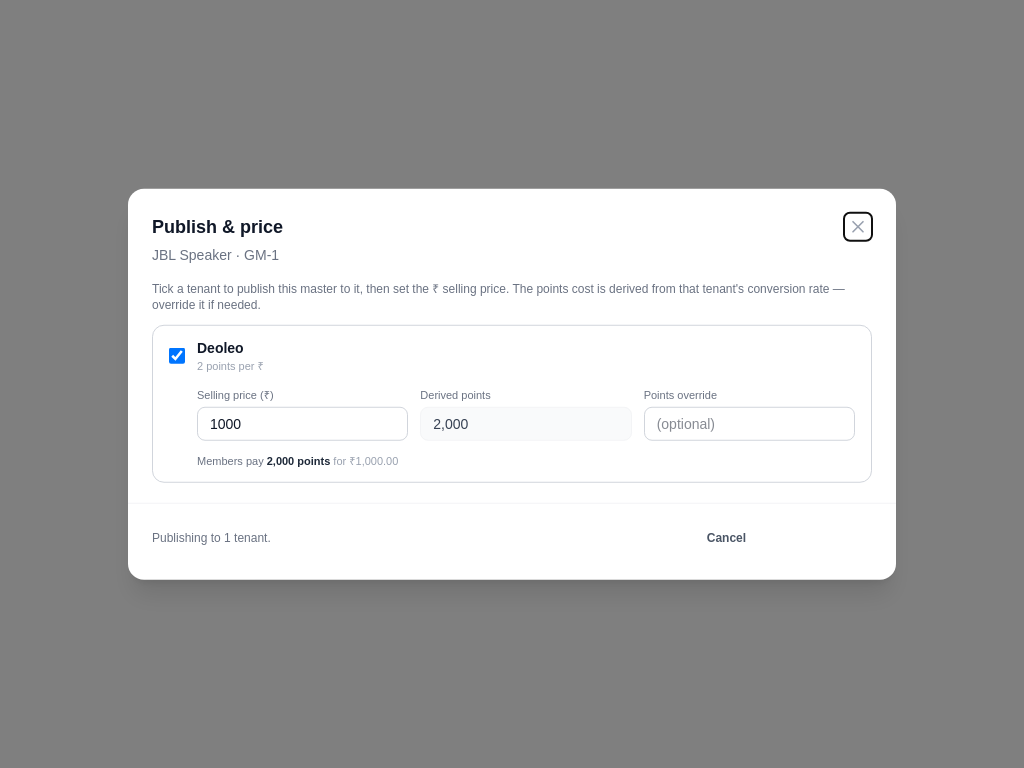
it: PublishDialog › derives points from ₹ × conversion rate and updates as the price changes
Expected: the text with test id "publish-derived-cl1" reads "2,000", [433,416,468,432]
Note: Change price to ₹1500 → derived 3000
Replace the text in the field with test id "publish-price-cl1" with "1500". click: (303, 424)
box: [197,407,408,441]
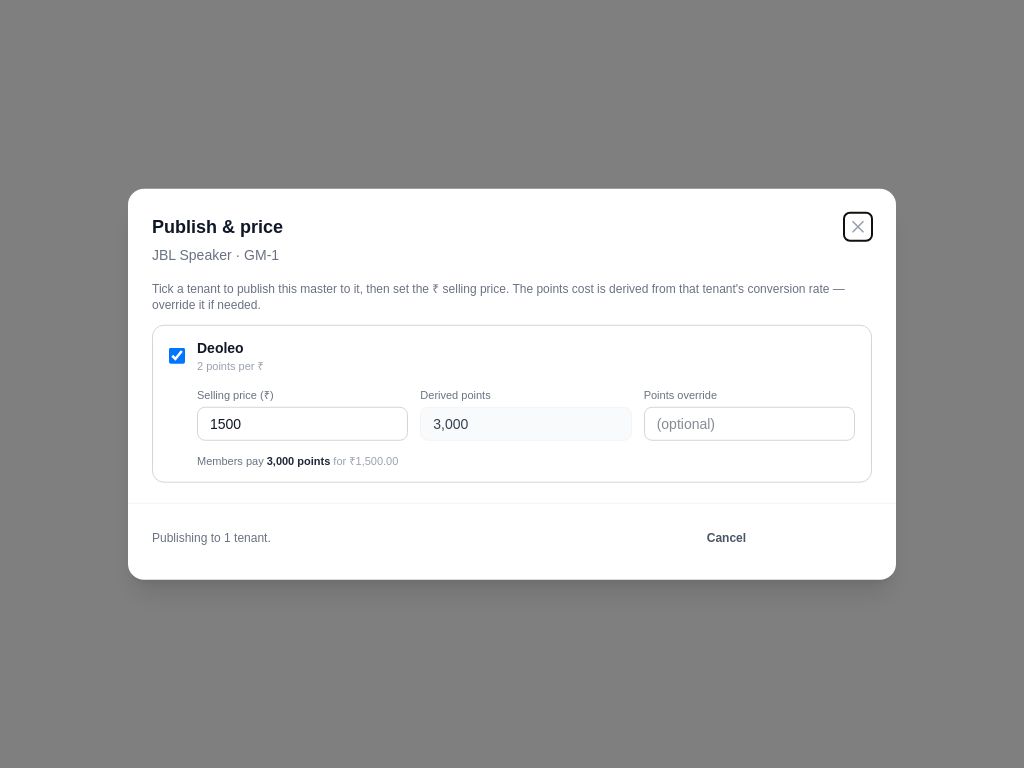
Now the text with test id "publish-derived-cl1" reads "3,000", box [433,416,468,432]
